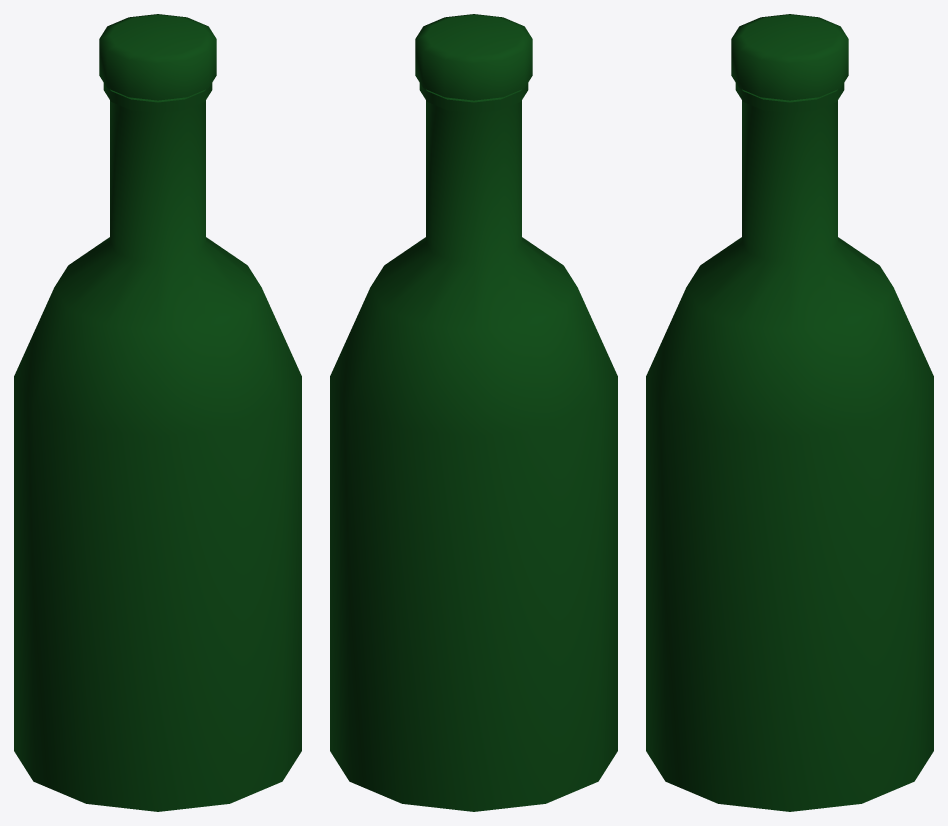
File: LoungeBottle2UV.fbx
3 views of the same model, side by side, from view 1: azimuth 30°, elevation 25°; view 2: azimuth 150°, elevation 25°; view 3: azimuth 270°, elevation 25° (orthographic).
Visible parts, largest first — view 1: pCylinder16; view 2: pCylinder16; view 3: pCylinder16.
Part boxes in pixels (left/top/right/bottom): pCylinder16: left=14, top=14, right=301, bottom=811; pCylinder16: left=330, top=14, right=617, bottom=811; pCylinder16: left=646, top=14, right=933, bottom=811.
Size of the model in its own units: 29.46 by 81.23 by 29.46.
